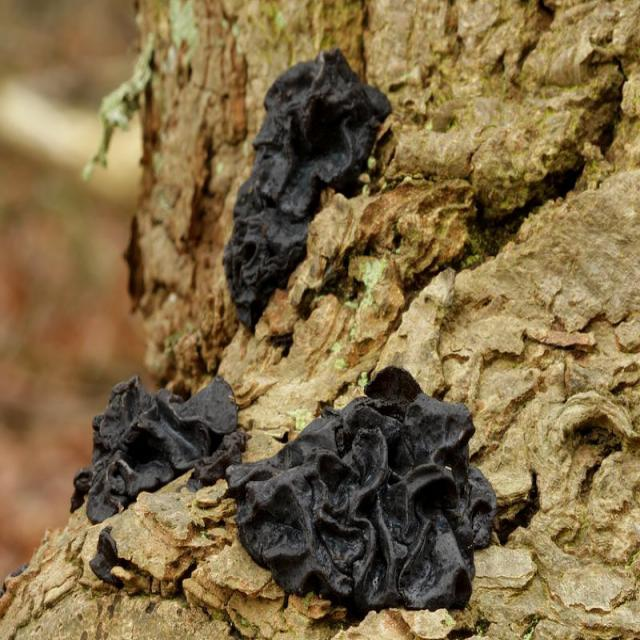Auricularia auricula: (234, 367, 498, 608), (226, 47, 391, 334), (68, 372, 244, 523)
